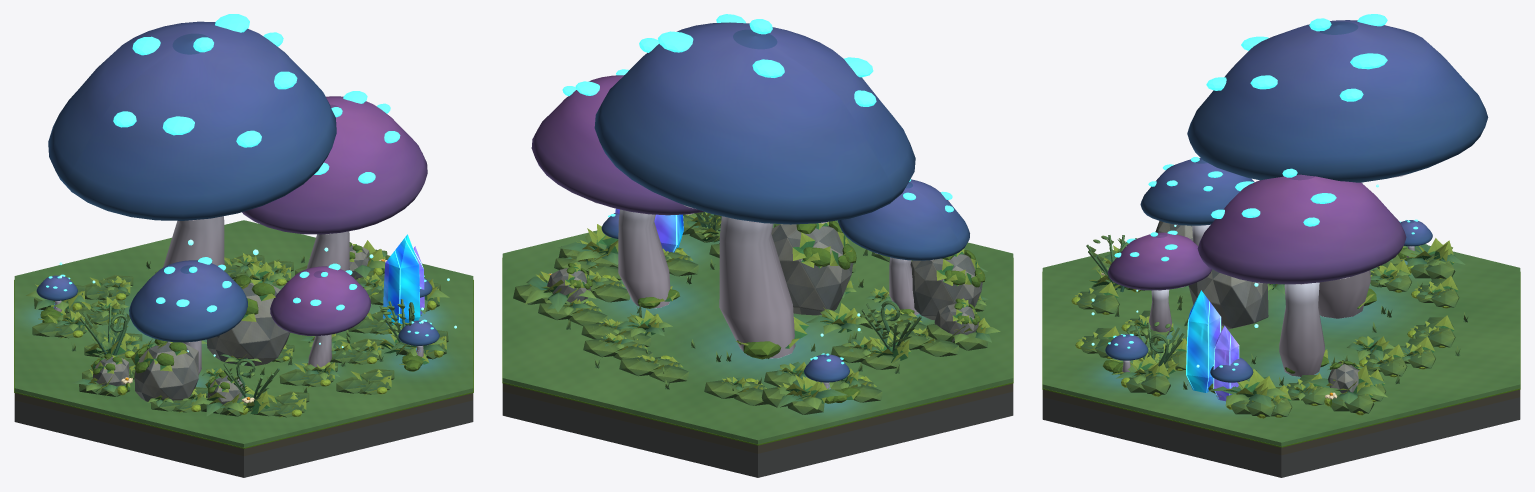
The model's file is hex_glowing_mushrooms.glb.
3 renders of one model, left to right at view 1: azimuth 30°, elevation 25°; view 2: azimuth 150°, elevation 25°; view 3: azimuth 270°, elevation 25°, orthographic. The views are drawn at different scales.
Parts seen in each view (by area): view 1: Broad faceted mushroom cap.001, Standard hex meadow top.001, Broad faceted mushroom cap.003, Standard hex stone foundation.001, Broad faceted mushroom cap.004, Broad faceted mushroom cap.005, Standard hex earth layer.001, Angular mossy forest boulder.001, Angular mossy forest boulder.002, Faceted magical crystal.001, Curving luminous mushroom stem.001, Curving luminous mushroom stem.003 (+6 smaller); view 2: Broad faceted mushroom cap.001, Standard hex meadow top.001, Standard hex stone foundation.001, Broad faceted mushroom cap.003, Curving luminous mushroom stem.001, Broad faceted mushroom cap.004, Standard hex earth layer.001, Angular mossy forest boulder.001, Curving luminous mushroom stem.003, Angular mossy forest boulder.002, Curving luminous mushroom stem.004, Broad faceted mushroom cap.007 (+8 smaller); view 3: Standard hex meadow top.001, Broad faceted mushroom cap.001, Broad faceted mushroom cap.003, Standard hex stone foundation.001, Broad faceted mushroom cap.004, Broad faceted mushroom cap.005, Standard hex earth layer.001, Curving luminous mushroom stem.003, Angular mossy forest boulder.001, Faceted magical crystal.001, Curving luminous mushroom stem.001, Faceted magical crystal.003 (+6 smaller).
Boxes of the visible parts, x1=… form: Broad faceted mushroom cap.001: x1=48, y1=21, x2=336, y2=220; Standard hex meadow top.001: x1=14, y1=220, x2=473, y2=447; Broad faceted mushroom cap.003: x1=242, y1=96, x2=427, y2=234; Standard hex stone foundation.001: x1=14, y1=400, x2=473, y2=477; Broad faceted mushroom cap.004: x1=129, y1=260, x2=247, y2=342; Broad faceted mushroom cap.005: x1=270, y1=266, x2=370, y2=335; Standard hex earth layer.001: x1=14, y1=393, x2=473, y2=456; Angular mossy forest boulder.001: x1=207, y1=282, x2=290, y2=366; Angular mossy forest boulder.002: x1=134, y1=341, x2=198, y2=402; Faceted magical crystal.001: x1=383, y1=234, x2=420, y2=329; Curving luminous mushroom stem.001: x1=163, y1=216, x2=224, y2=270; Curving luminous mushroom stem.003: x1=306, y1=231, x2=349, y2=271; Broad faceted mushroom cap.001: x1=594, y1=22, x2=915, y2=224; Standard hex meadow top.001: x1=502, y1=214, x2=1013, y2=444; Standard hex stone foundation.001: x1=502, y1=391, x2=1013, y2=477; Broad faceted mushroom cap.003: x1=531, y1=75, x2=703, y2=215; Curving luminous mushroom stem.001: x1=719, y1=216, x2=795, y2=358; Broad faceted mushroom cap.004: x1=837, y1=179, x2=969, y2=260; Standard hex earth layer.001: x1=502, y1=383, x2=1013, y2=453; Angular mossy forest boulder.001: x1=771, y1=224, x2=853, y2=315; Curving luminous mushroom stem.003: x1=618, y1=209, x2=670, y2=308; Angular mossy forest boulder.002: x1=910, y1=254, x2=982, y2=320; Curving luminous mushroom stem.004: x1=889, y1=257, x2=919, y2=315; Broad faceted mushroom cap.007: x1=804, y1=354, x2=849, y2=382; Standard hex meadow top.001: x1=1042, y1=245, x2=1520, y2=446; Broad faceted mushroom cap.001: x1=1187, y1=20, x2=1488, y2=182; Broad faceted mushroom cap.003: x1=1197, y1=174, x2=1406, y2=284; Standard hex stone foundation.001: x1=1042, y1=397, x2=1520, y2=477; Broad faceted mushroom cap.004: x1=1140, y1=158, x2=1254, y2=225; Broad faceted mushroom cap.005: x1=1107, y1=232, x2=1212, y2=290; Standard hex earth layer.001: x1=1042, y1=389, x2=1520, y2=455; Curving luminous mushroom stem.003: x1=1279, y1=282, x2=1324, y2=376; Angular mossy forest boulder.001: x1=1188, y1=269, x2=1268, y2=329; Faceted magical crystal.001: x1=1186, y1=290, x2=1221, y2=392; Curving luminous mushroom stem.001: x1=1318, y1=182, x2=1370, y2=318; Faceted magical crystal.003: x1=1213, y1=325, x2=1239, y2=401.
Bounding box in the file's own units: 5.11 × 3.38 × 4.42.
40 materials, 30 textured.
